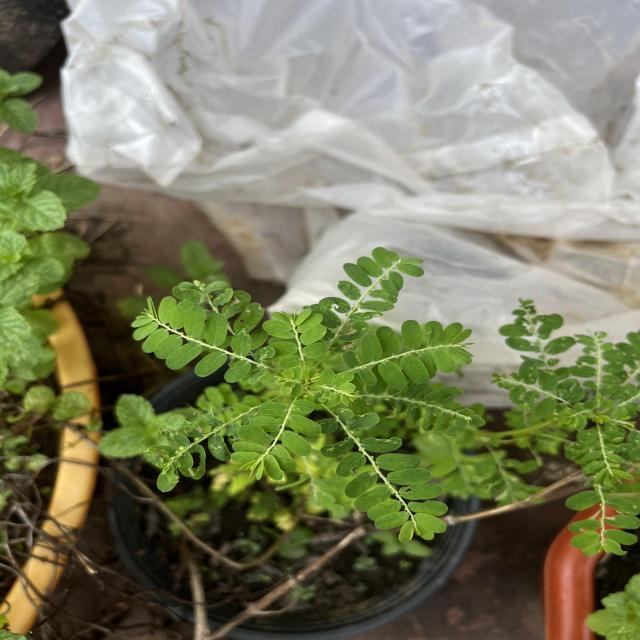Phyllanthus niruri: (310, 404, 454, 544), (127, 294, 276, 388), (314, 244, 426, 344), (339, 317, 475, 392), (229, 392, 324, 484), (261, 306, 329, 374)
